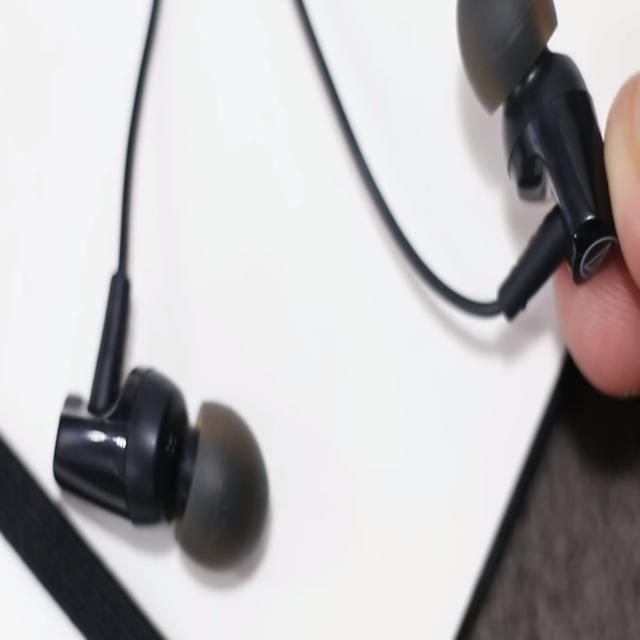Earphone: (51, 2, 618, 577)
